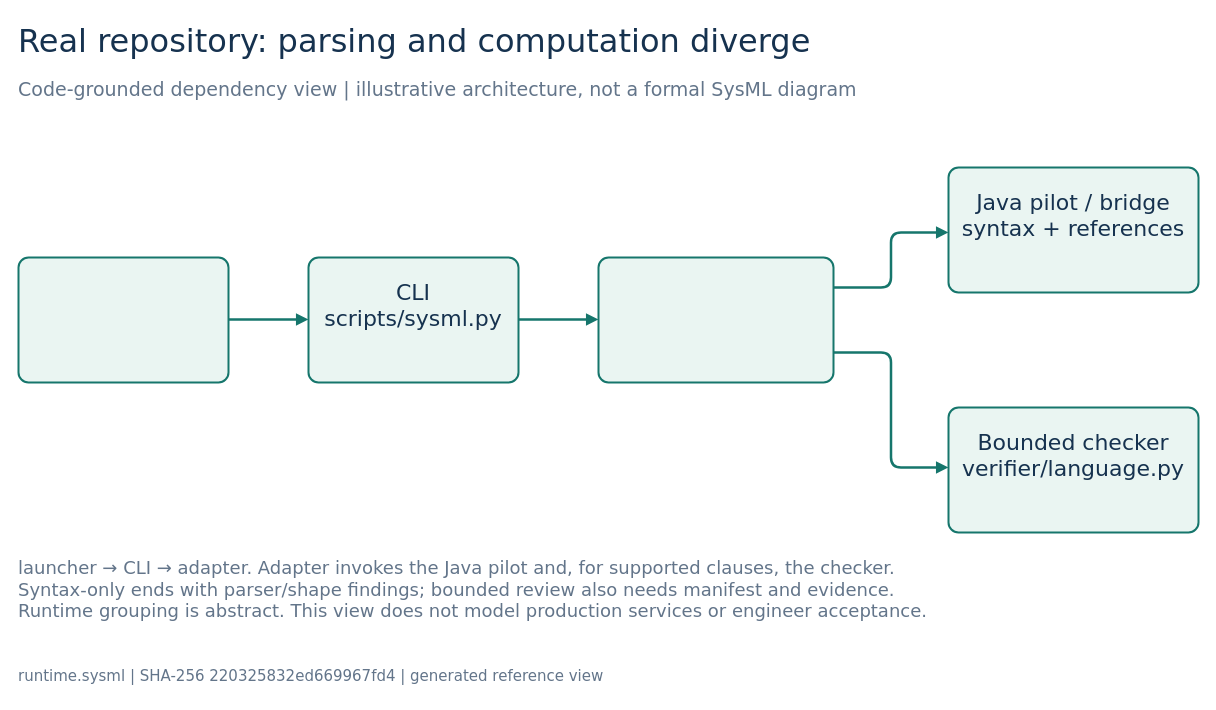
The diagram is 1216 pixels wide and 710 high, and some of its shapes have lost their labels. The centre of each missing label's shape, as x and y in pixels:
"Adapter verifier/sysml.py" goes at pixel 715 319.
"Skill launcher skills/develop-*/ scripts/cse.py" goes at pixel 123 319.
